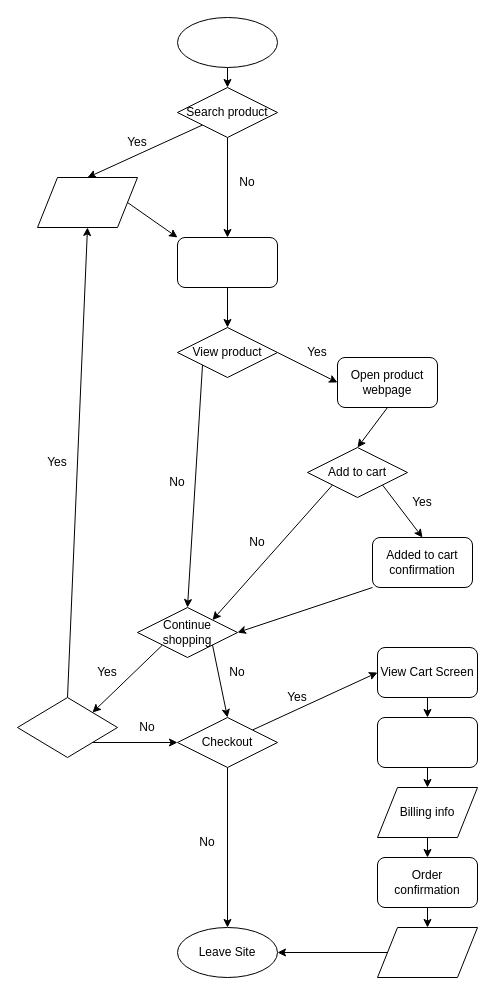
Image size: 495x995. Some labels were removed from this diagram. Each missing label, with the centre of its shape:
"Confirmation email" belongs at (x=427, y=952).
"Enter Site" belongs at (x=227, y=42).
"Look over products" belongs at (x=227, y=262).
"Provide search input" belongs at (x=87, y=202).
"Search new product" belongs at (x=67, y=727).
"View Payment Screen" belongs at (x=427, y=742).
